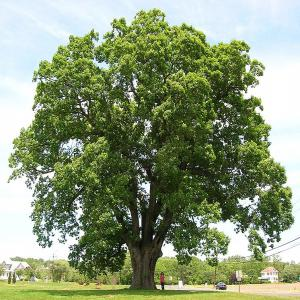Tree: (6, 7, 294, 289)
